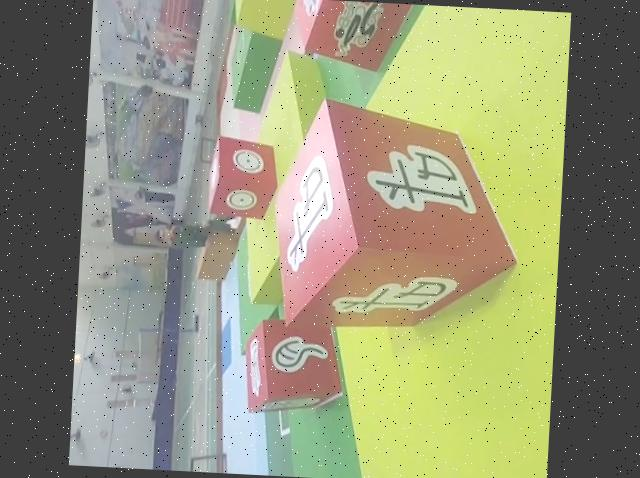R1: (287, 0, 418, 74)
R2 Fake: (241, 313, 345, 421)
R2 Real: (267, 93, 529, 340), (202, 134, 278, 223)
